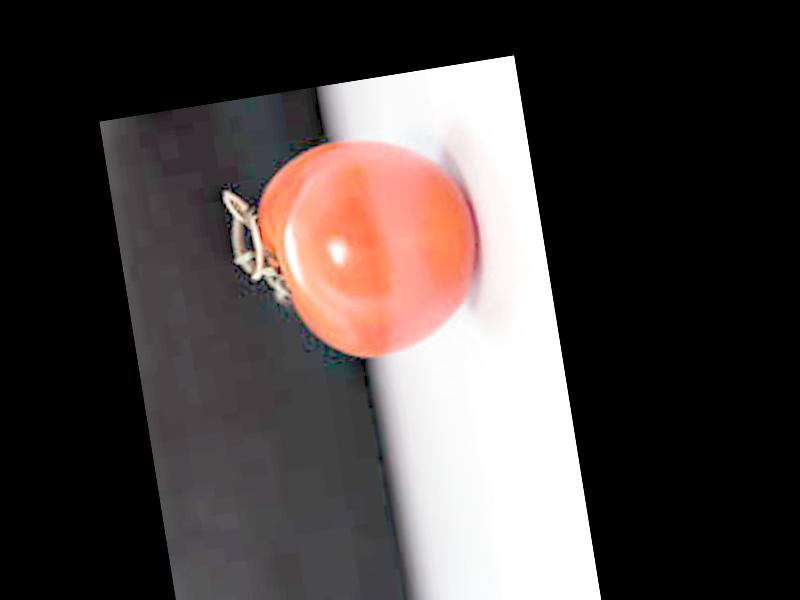Tomato: (247, 122, 492, 373)
